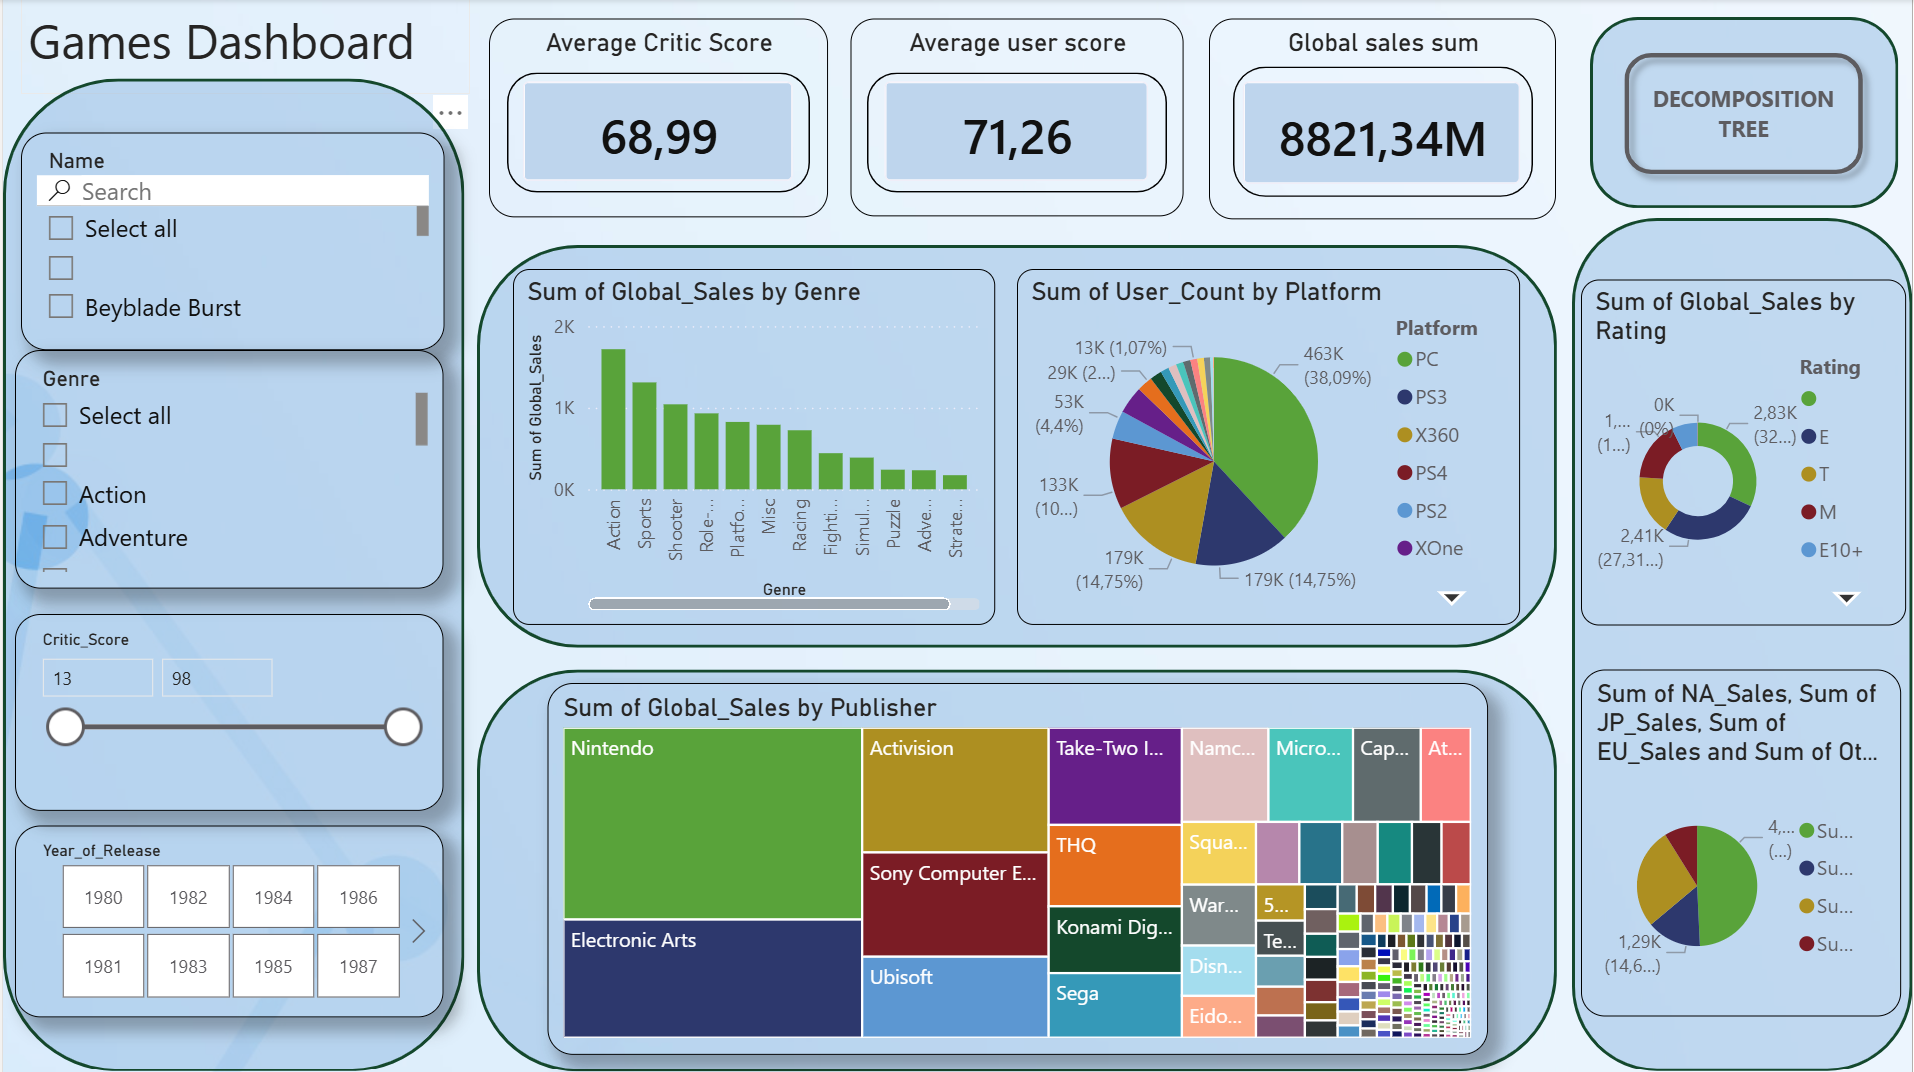

The dashboard page shown, as its layout file describes it:
{"tool":"powerbi","page":{"name":"Game dashboard","canvas":[1280,720],"ordinal":0},"visuals":[{"type":"textbox","box":[12,0,301,63],"z":0},{"type":"shape","box":[0,53.3,309.4,666.3],"z":1000},{"type":"slicer","fields":{"Values":["Sales_main.Name"]},"box":[11.6,89.2,283.9,146],"z":2000},{"type":"slicer","fields":{"Values":["Sales_main.Year_of_Release"]},"box":[8.1,553.9,287.4,128.6],"z":3000},{"type":"slicer","fields":{"Values":["Sales_main.Genre"]},"box":[8.1,235.2,287.4,159.9],"z":4000},{"type":"slicer","fields":{"Values":["Sales_main.Critic_Score"]},"box":[8.1,412.5,287.4,132.1],"z":5000},{"type":"shape","box":[317.5,164.5,724.2,270],"z":6000},{"type":"columnChart","fields":{"Y":["Sum(Sales_main.Global_Sales)"],"Category":["Sales_main.Genre"]},"box":[341.8,180.8,323.3,238.7],"z":7000},{"type":"pieChart","fields":{"Category":["Dim_Platform.Platform"],"Y":["Sum(Sales_main.User_Count)"]},"box":[680.2,180.8,337.2,238.7],"z":8000},{"type":"shape","box":[317.5,449.6,724.2,270],"z":9000},{"type":"treemap","fields":{"Group":["Dim_Publishers.Publisher"],"Values":["Sum(Sales_main.Global_Sales)"]},"box":[365,458.9,630.3,249.1],"z":10000},{"type":"cardVisual","title":"Average Critic Score","fields":{"Data":["Avg(Sales_main.Critic_Score)"]},"box":[325.6,12.7,227.1,133.3],"z":11000},{"type":"cardVisual","title":"Average user score","fields":{"Data":["Avg(Sales_main.user_st_adj_to_critic)"]},"box":[568.3,13.1,223.3,132.8],"z":12000},{"type":"cardVisual","title":"Global sales sum","fields":{"Data":["Measuress.global_sales_sum_for_dashboard"]},"box":[808.8,12.7,232.9,134.4],"z":13000},{"type":"shape","box":[1052.1,147.2,228.3,572.4],"z":14000},{"type":"donutChart","fields":{"Category":["Sales_main.Rating"],"Y":["Sum(Sales_main.Global_Sales)"]},"box":[1057.9,187.7,217.8,231.7],"z":15000},{"type":"pieChart","fields":{"Y":["Sum(Sales_main.NA_Sales)","Sum(Sales_main.JP_Sales)","Sum(Sales_main.EU_Sales)","Sum(Sales_main.Other_Sales)"]},"box":[1057.9,449.6,214.4,232.9],"z":16000},{"type":"shape","box":[1063.9,12.4,206.8,128.2],"z":17000},{"type":"actionButton","box":[1078.4,26.9,177.8,99.3],"z":18000},{"type":"shape","box":[337.9,49.3,203.2,80.5],"z":19000},{"type":"shape","box":[579.3,49.3,201.2,80.5],"z":19001},{"type":"shape","box":[824.7,45.3,201.2,87.5],"z":19002}]}

Visuals, with their boxes in screenshot pixels (x1, y1, x2, y2), scaled from the page's 1280x720 canvas onto the 1914x1072 screenshot:
textbox: [18,0,468,94]
shape: [0,79,463,1071]
slicer - Sales_main.Name: [17,133,442,350]
slicer - Sales_main.Year_of_Release: [12,825,442,1016]
slicer - Sales_main.Genre: [12,350,442,588]
slicer - Sales_main.Critic_Score: [12,614,442,811]
shape: [475,245,1558,647]
columnChart - Sum(Sales_main.Global_Sales) x Sales_main.Genre: [511,269,995,625]
pieChart - Dim_Platform.Platform x Sum(Sales_main.User_Count): [1017,269,1521,625]
shape: [475,669,1558,1071]
treemap - Dim_Publishers.Publisher x Sum(Sales_main.Global_Sales): [546,683,1488,1054]
"Average Critic Score" cardVisual: [487,19,826,217]
"Average user score" cardVisual: [850,20,1184,217]
"Global sales sum" cardVisual: [1209,19,1558,219]
shape: [1573,219,1913,1071]
donutChart - Sales_main.Rating x Sum(Sales_main.Global_Sales): [1582,279,1908,624]
pieChart - Sum(Sales_main.NA_Sales) x Sum(Sales_main.JP_Sales): [1582,669,1902,1016]
shape: [1591,18,1900,209]
actionButton: [1613,40,1878,188]
shape: [505,73,809,193]
shape: [866,73,1167,193]
shape: [1233,67,1534,198]
